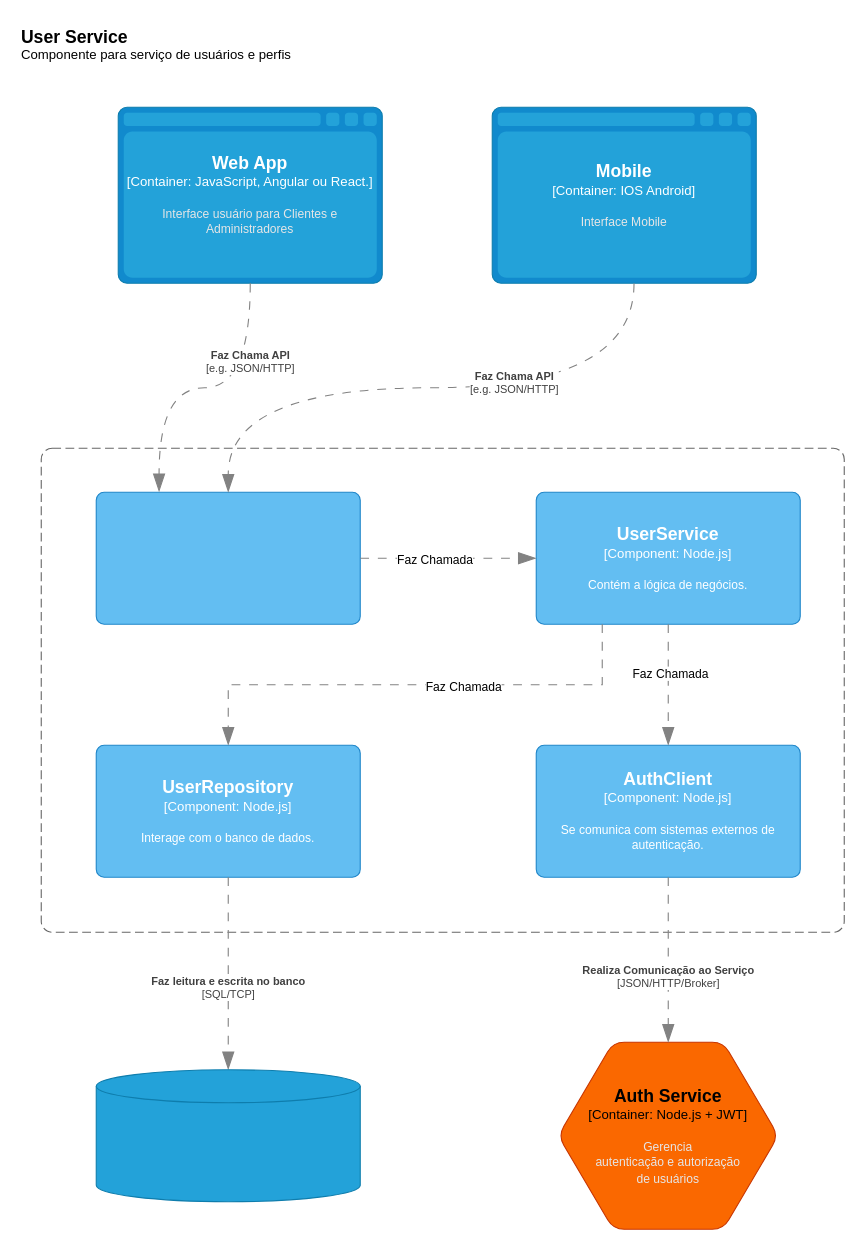
Some shapes in this 864 by 1249 pixel diagram are drawn without their labels. The box of each missing label's shape, as (x1, y1, x2, y2) in pixels:
Banco de Dados [Container: PostgreSQL] Armazena dados dos clientes.: (95, 1069, 360, 1202)
User Service [Container]: (40, 447, 844, 932)
UserController [Component: Node.js] Expõe endpoints REST.: (95, 491, 360, 624)
